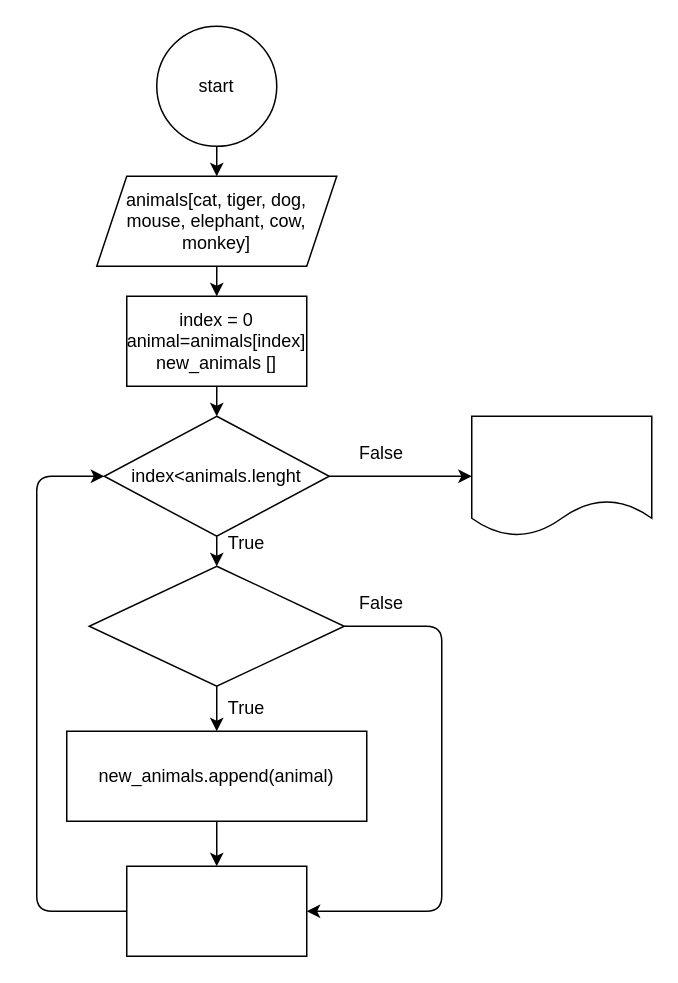
This 678x983 diagram has some shape labels left out. The centre of each missing label's shape, as x and y in pixels:
index = index+1: (x=216, y=910)
len(animal) <= 3: (x=216, y=625)
print (new_animals): (x=561, y=475)
